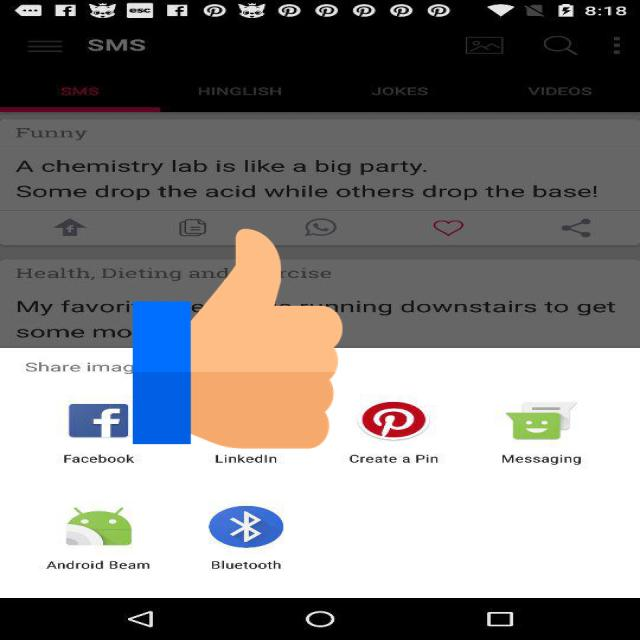privacy zuckering: (132, 223, 342, 454)
